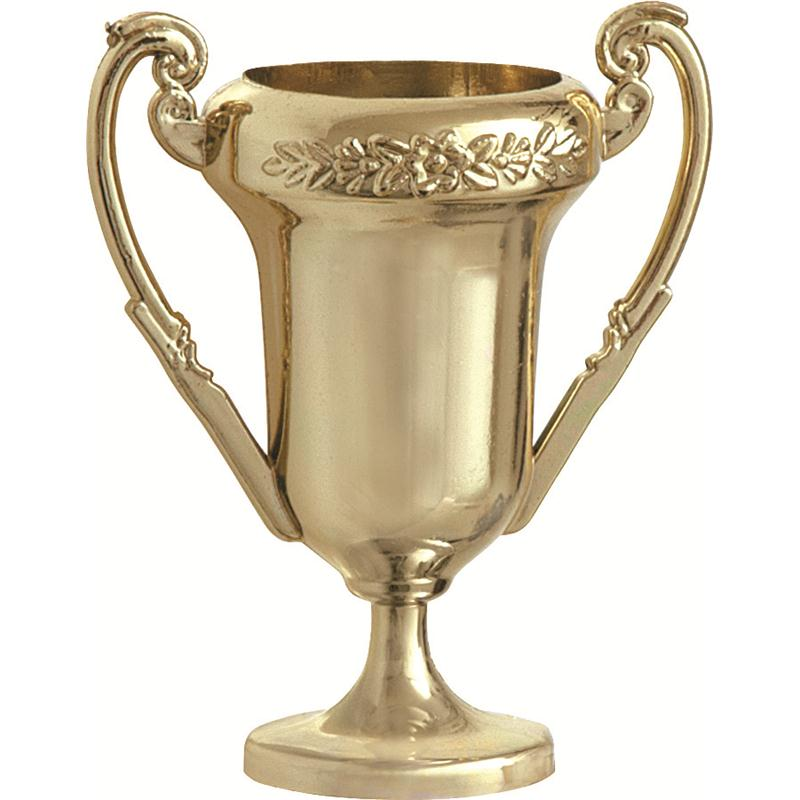trophy: (85, 1, 717, 796)
